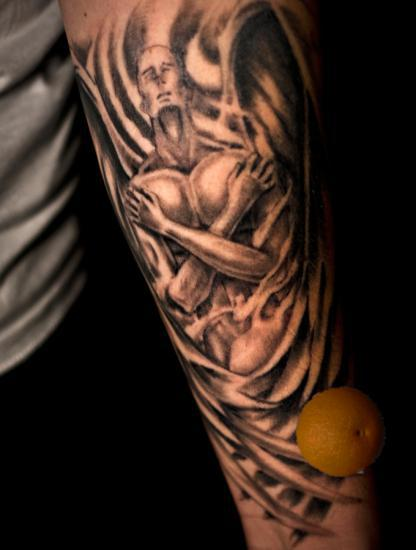Orange: (295, 386, 389, 480)
